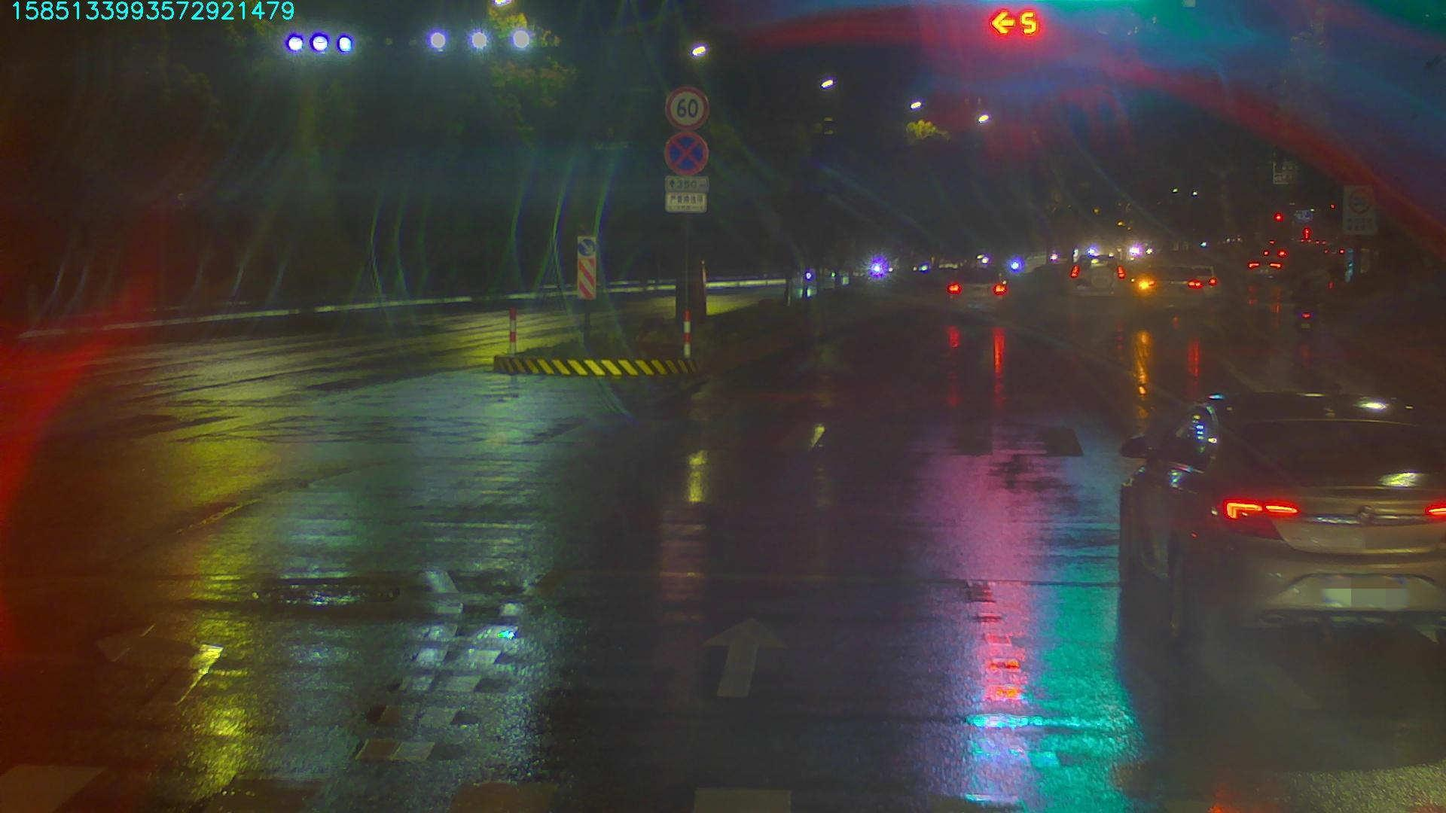red: (981, 7, 1044, 35)
